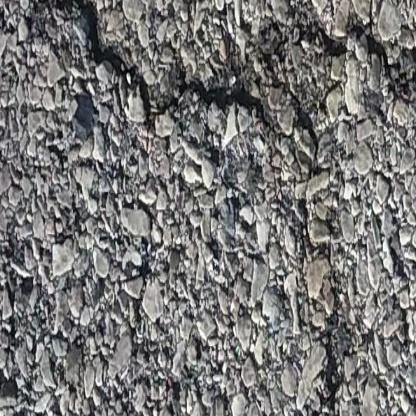Cracks: (43, 0, 416, 126)
